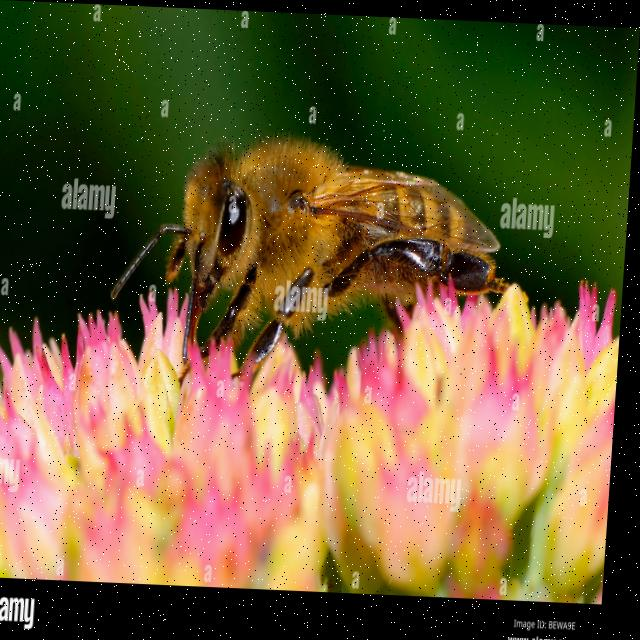Apis-mellifera-scutellata: (103, 104, 535, 377)
